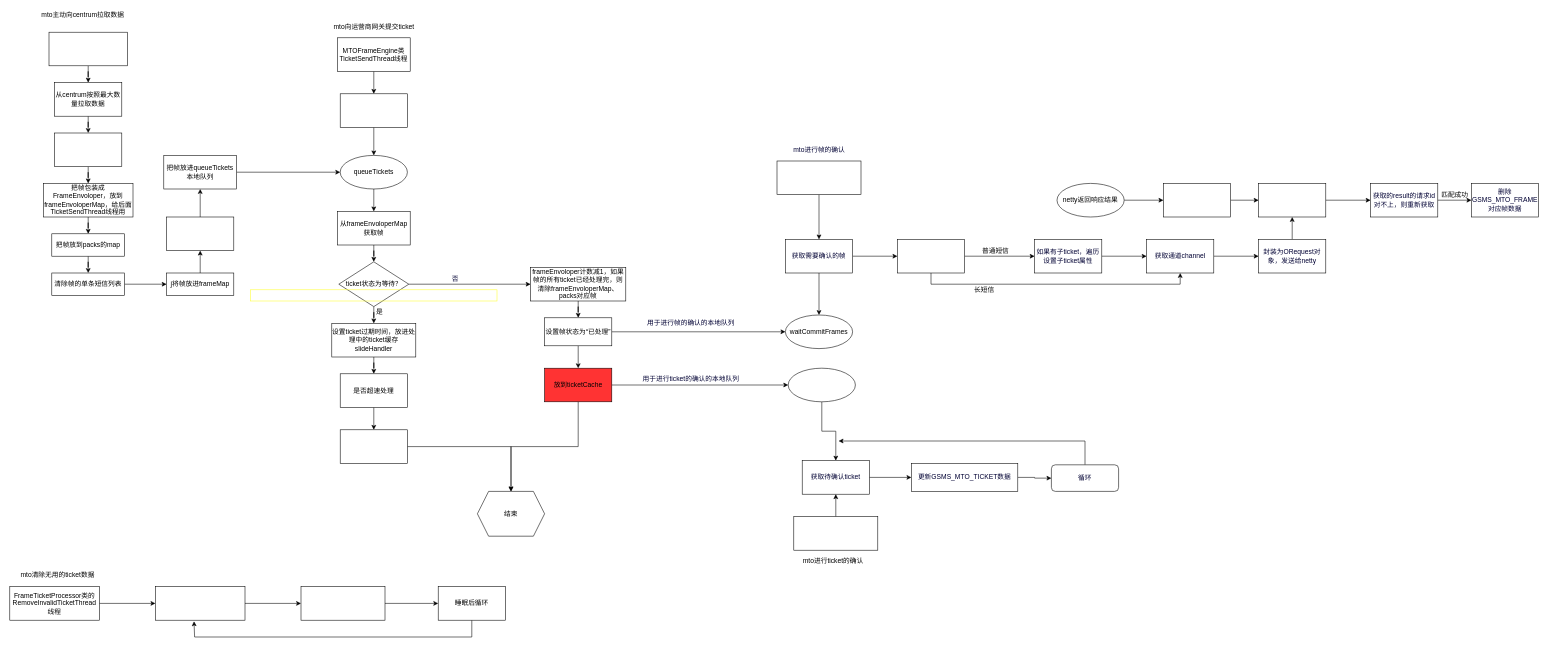
The diagram is 1548 pixels wide and 651 high, and some of its shapes have lost their labels. The centre of each missing label's shape, as x and y in pixels:
"FrameTicketProcessor类的CommitTicketThread线程" belongs at point 835,533.
"MTOFrameEngine类FrameFetchThread线程" belongs at point 87,49.
"MTOFrameEngine类的FrameCommitThread线程" belongs at point 818,177.
"ticketCache" belongs at point 821,385.
"“是”则表明等待发送给网关，“否”则表示ticket已处理过，待确认ticket和frame就行" belongs at point 373,295.
"删除GSMS_MTO_TICKET对应数据" belongs at point 342,603.
"判断通道是否可用，不可用则关闭，登录连接新通道" belongs at point 373,110.
"找出GSMS_MTO_TICKET中frameID不在GSMS_MTO_FRAME的数据" belongs at point 200,603.
"拼接参数，通过运营商通道接口发送数据" belongs at point 373,446.
"构建ticket 存储frame和ticket" belongs at point 88,149.
"等待future回调" belongs at point 1292,200.
"结果封装成TemplateResult放进queueResultMap" belongs at point 1197,200.
"遍历ticket，从frameMap获取ticket对应的帧" belongs at point 200,233.
"遍历帧，分别对普通短信、长短信进行属性的处理" belongs at point 931,256.
